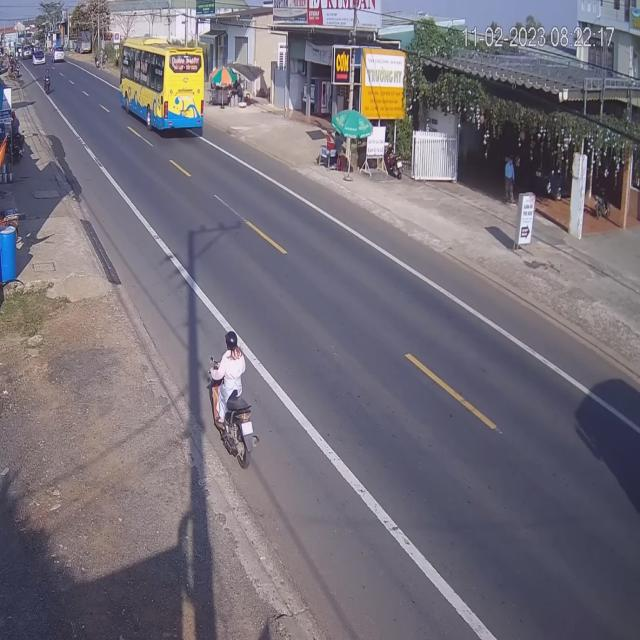bus: (121, 34, 208, 140)
motorbike: (206, 324, 259, 468)
